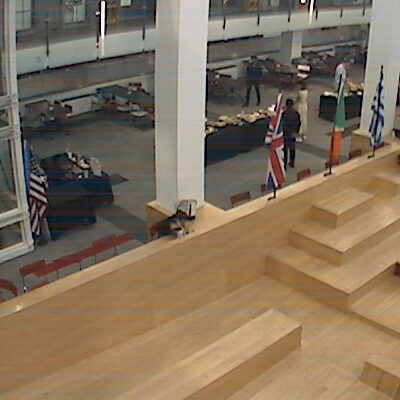head: (173, 210, 190, 228), (283, 98, 298, 109), (343, 58, 356, 70), (248, 54, 261, 63)
